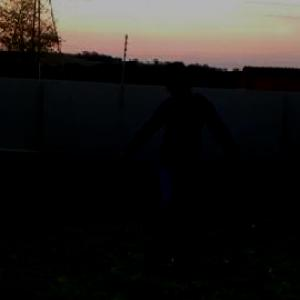land: (97, 50, 281, 290)
